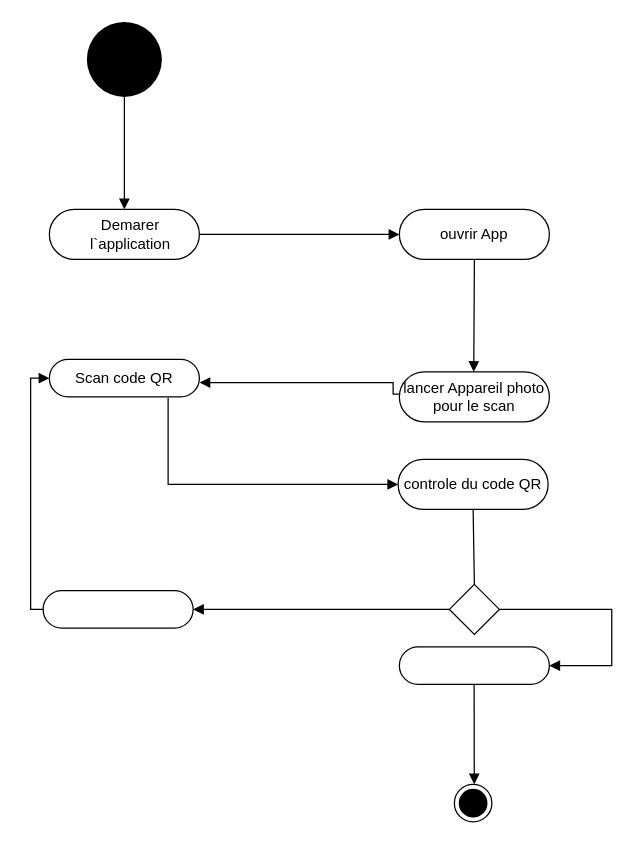
Some shapes in this 644 by 844 pixel diagram are drawn without their labels. The box of each missing label's shape, as (x1, y1, x2, y2) in pixels:
Afficher page de vote: (398, 646, 549, 684)
message d'erreur: (42, 589, 193, 628)
